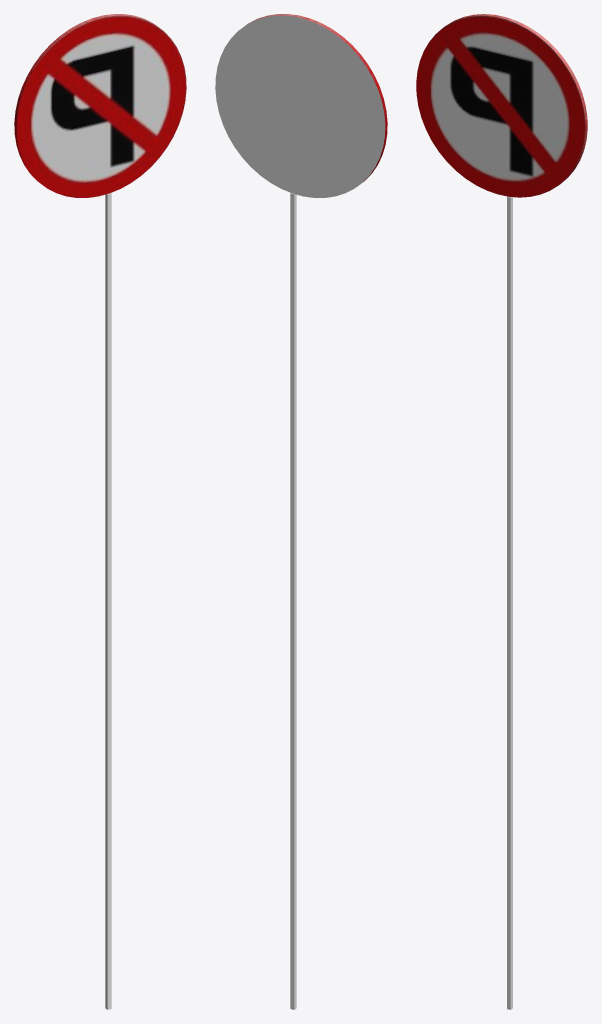
The model's file is trafik_levha_park_etmek_yasaktir_2.obj.
The picture shows the model from 3 angles, left to right: view 1: azimuth 30°, elevation 25°; view 2: azimuth 150°, elevation 25°; view 3: azimuth 330°, elevation 25°; orthographic projection.
Visible parts, largest first — view 1: Mesh2 Group1 Model, Mesh1 Group2 Group1 Model; view 2: Mesh2 Group1 Model, Mesh1 Group2 Group1 Model; view 3: Mesh2 Group1 Model, Mesh1 Group2 Group1 Model.
Boxes of the visible parts, left/top/right/bottom form: Mesh2 Group1 Model: left=14, top=14, right=186, bottom=197; Mesh1 Group2 Group1 Model: left=105, top=193, right=111, bottom=1009; Mesh2 Group1 Model: left=215, top=14, right=387, bottom=197; Mesh1 Group2 Group1 Model: left=290, top=193, right=296, bottom=1009; Mesh2 Group1 Model: left=416, top=14, right=587, bottom=197; Mesh1 Group2 Group1 Model: left=507, top=196, right=512, bottom=1009.
Bounding box in the file's own units: 436 × 2436 × 10.
2 materials, 1 textured.
